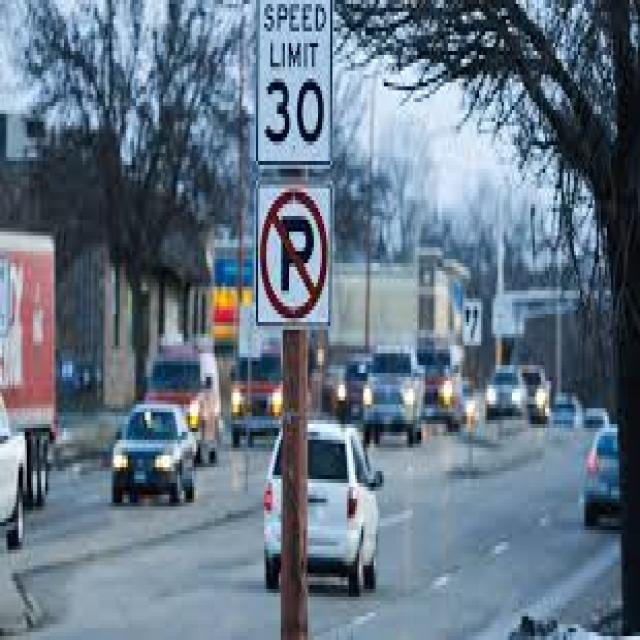speedLimit35: (255, 2, 331, 167)
